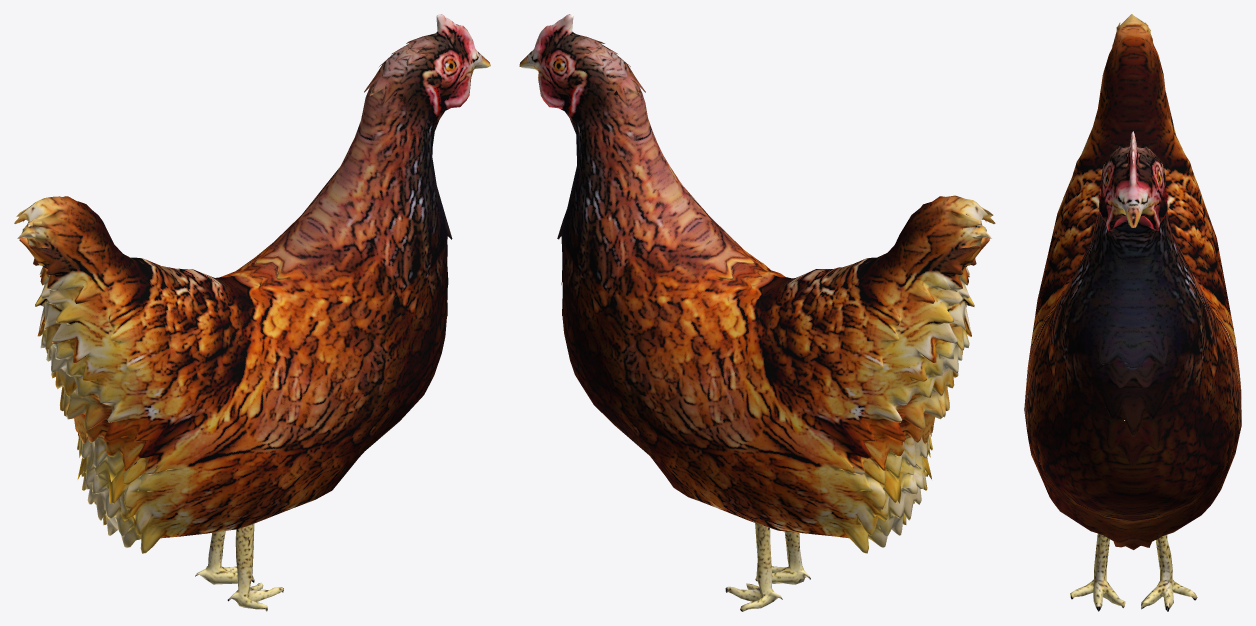
File: animation_scene.unity_1.obj
3 views of the same model, side by side, from view 1: azimuth 30°, elevation 25°; view 2: azimuth 150°, elevation 25°; view 3: azimuth 270°, elevation 25° (orthographic). The views are drawn at different scales.
Parts seen in each view (by area): view 1: Chicken_Toon; view 2: Chicken_Toon; view 3: Chicken_Toon.
Boxes of the visible parts, x1,y1,x2,y2 form: Chicken_Toon: (14,14,490,611); Chicken_Toon: (519,14,995,611); Chicken_Toon: (1024,14,1241,611).
Size of the model in its own units: 3.29 by 3.49 by 1.19.
Materials: 1 (1 with a texture image).
